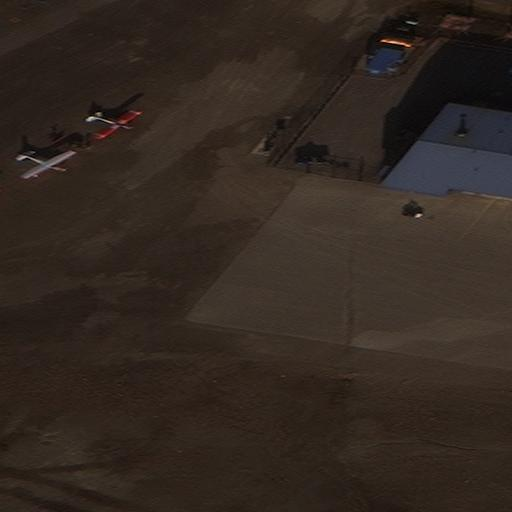Small Civil Transport: (18, 152, 77, 179), (89, 112, 141, 139)
